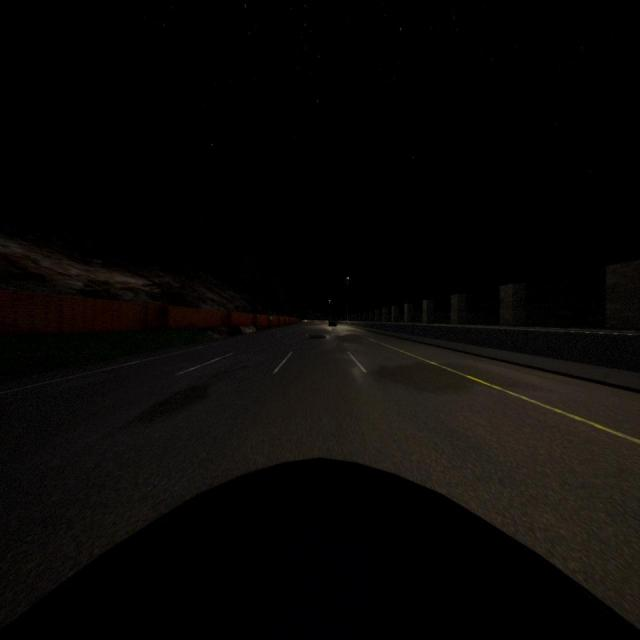Traffic_Signs: (269, 316, 273, 320)
Vehicle: (0, 466, 640, 640), (328, 317, 337, 327)
